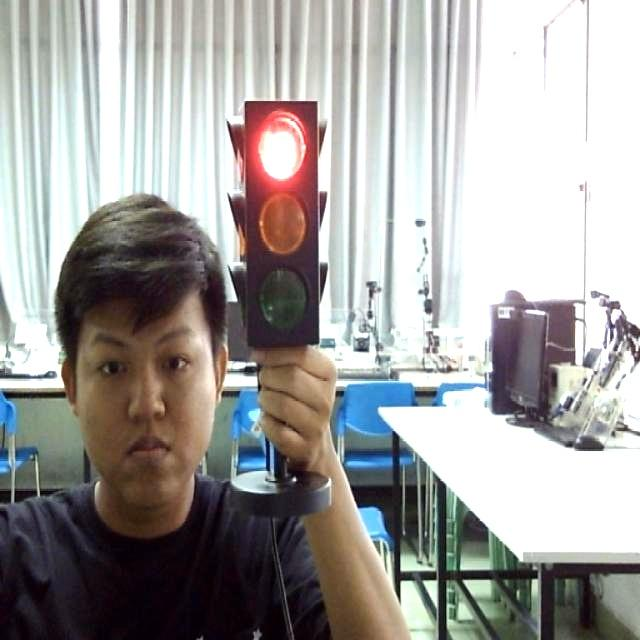Red: (220, 92, 337, 358)
